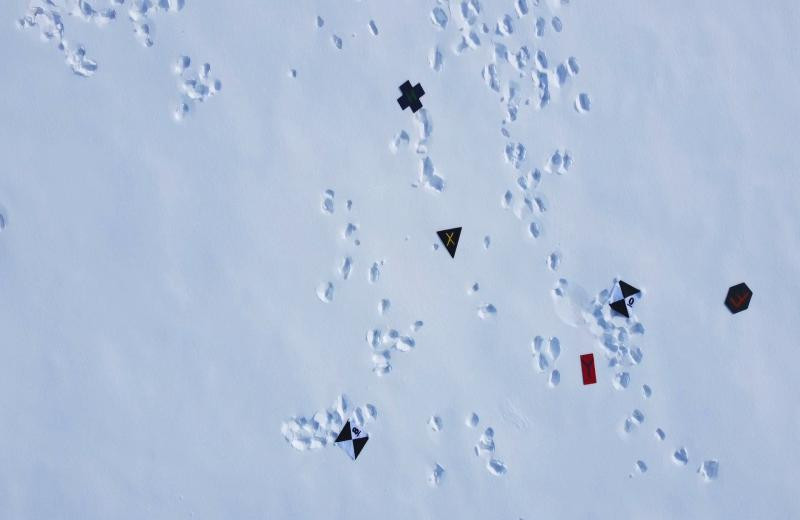Cross: (392, 79, 427, 117)
Hexagon: (722, 282, 754, 315)
Rectangle: (575, 350, 600, 388)
Triangle: (434, 224, 464, 262)
